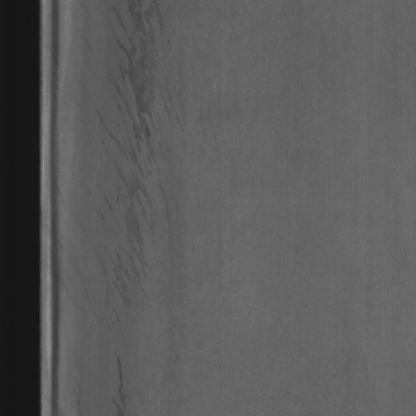water_spot: (101, 3, 175, 322)
